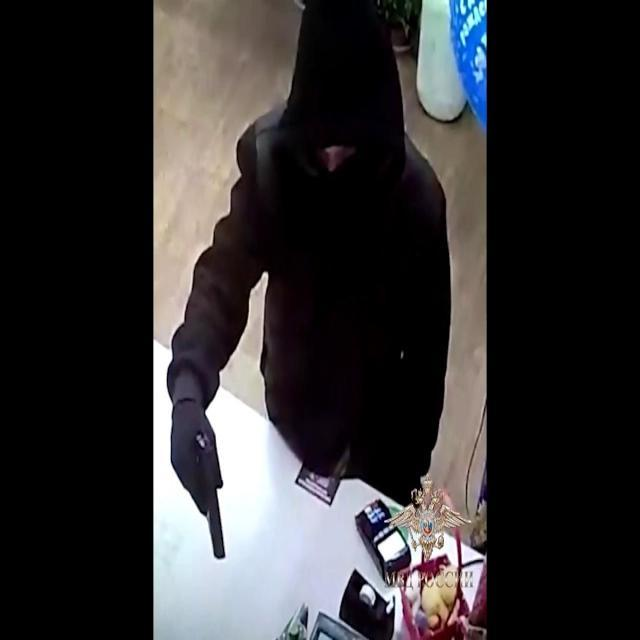pistol: (170, 416, 232, 558)
